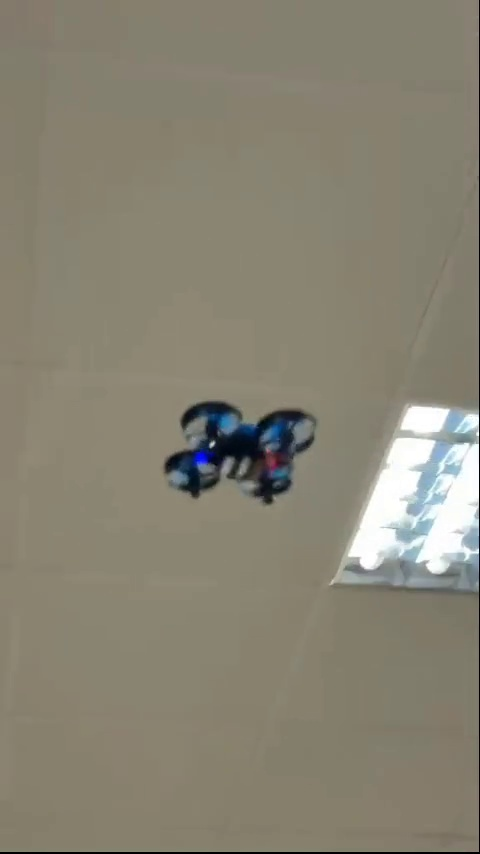drone: (162, 396, 315, 512)
